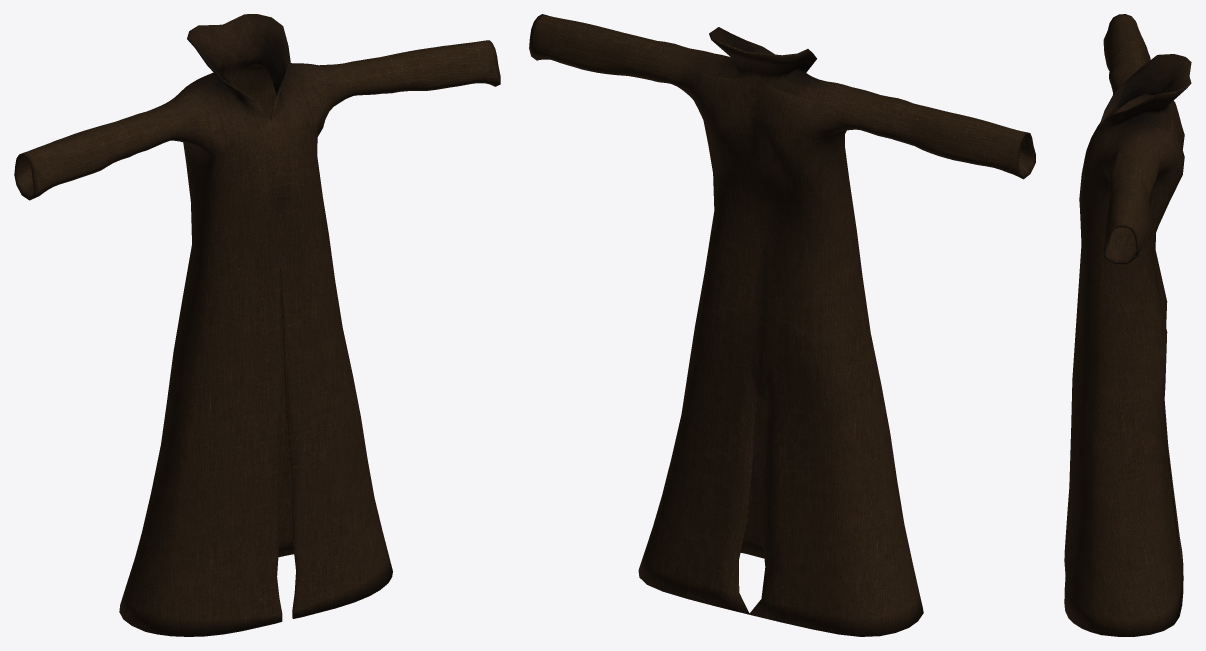
File: robe.glb
The picture shows the model from 3 angles, left to right: view 1: azimuth 30°, elevation 25°; view 2: azimuth 150°, elevation 25°; view 3: azimuth 270°, elevation 25°; orthographic projection. The views are drawn at different scales.
Parts seen in each view (by area): view 1: robe_export; view 2: robe_export; view 3: robe_export.
Part boxes in pixels (x1=…): robe_export: x1=14, y1=14, x2=500, y2=636; robe_export: x1=529, y1=14, x2=1035, y2=636; robe_export: x1=1064, y1=14, x2=1191, y2=636.
Bounding box in the file's own units: 1.01 × 1.14 × 0.2562.
Materials: 1 (1 with a texture image).
